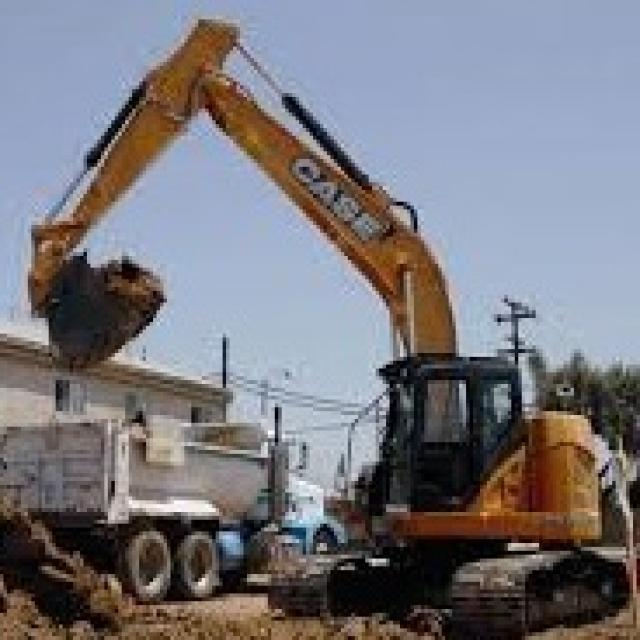excavator: (251, 326, 640, 640)
